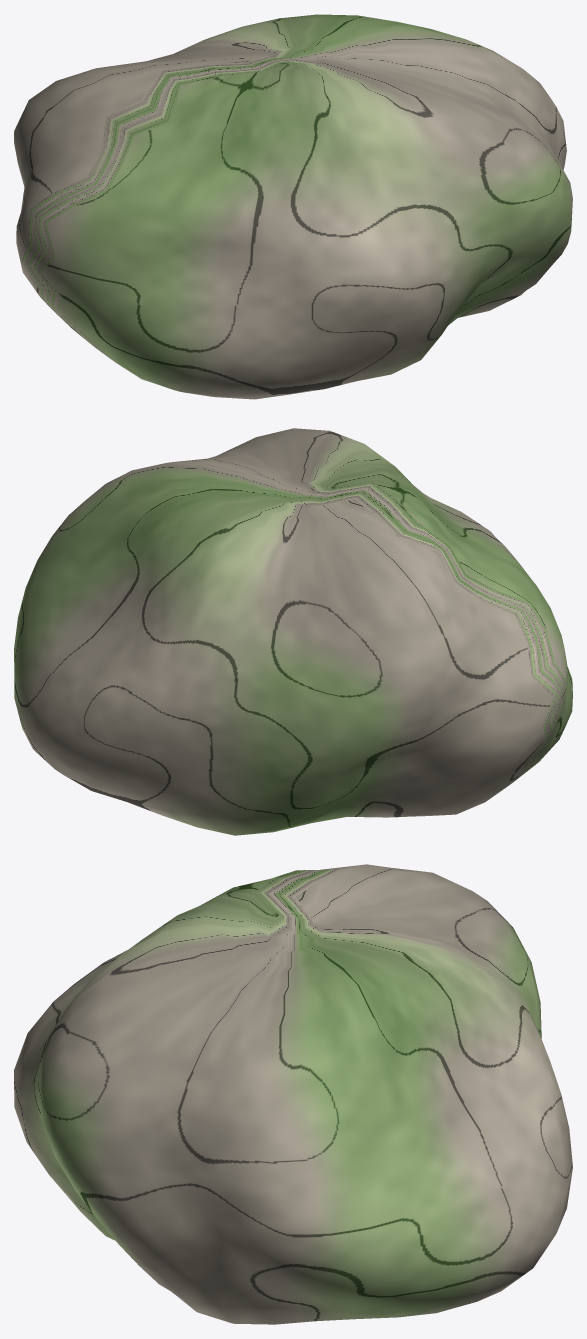
File: rock.glb
The picture shows the model from 3 angles, top to bottom: view 1: azimuth 30°, elevation 25°; view 2: azimuth 150°, elevation 25°; view 3: azimuth 270°, elevation 25°; orthographic projection. The views are drawn at different scales.
Parts seen in each view (by area): view 1: rock; view 2: rock; view 3: rock.
Part boxes in pixels (x1,y1,x2,y2): rock: [14, 14, 572, 399]; rock: [14, 428, 572, 835]; rock: [14, 864, 572, 1324].
Bounding box in the file's own units: 2.74 × 1.4 × 2.27.
1 material, 1 textured.
